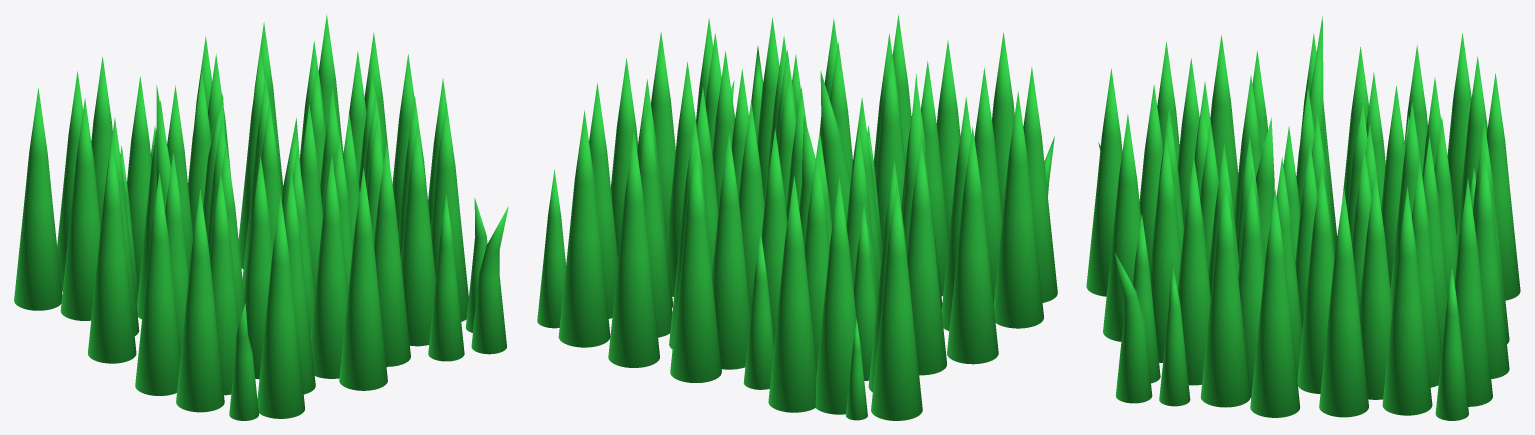
The model's file is GRASS.fbx.
3 renders of one model, left to right at view 1: azimuth 30°, elevation 25°; view 2: azimuth 150°, elevation 25°; view 3: azimuth 270°, elevation 25°, orthographic. The views are drawn at different scales.
Visible parts, largest first — view 1: Cone; view 2: Cone; view 3: Cone.
Part boxes in pixels (x1=…): Cone: x1=14, y1=14, x2=508, y2=420; Cone: x1=537, y1=14, x2=1057, y2=420; Cone: x1=1086, y1=16, x2=1520, y2=420.
Size of the model in its own units: 184 by 124 by 187.
